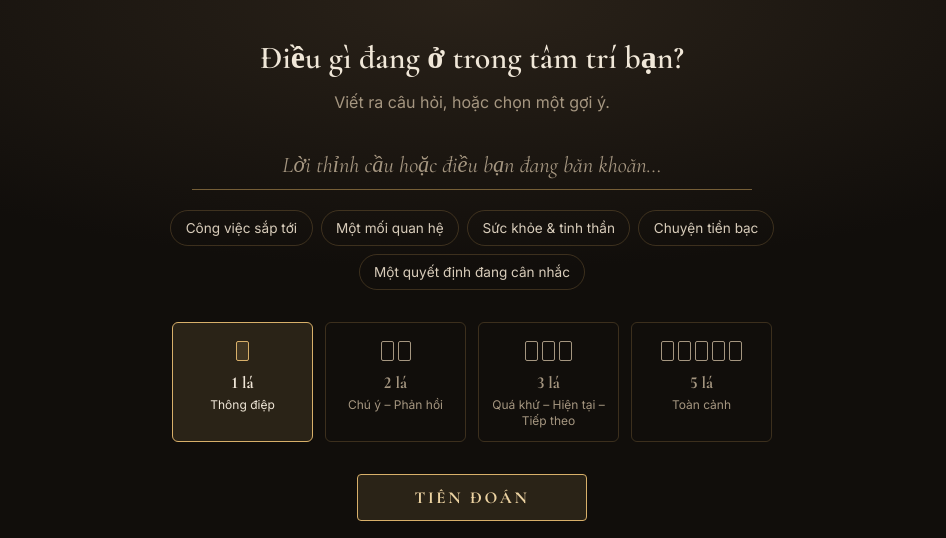
RandomPullTab › bấm gợi ý thì điền đúng chữ đó vào ô câu hỏi
Click the button "Một mối quan hệ". click: {"x": 390, "y": 228}
box: [320,210,459,246]
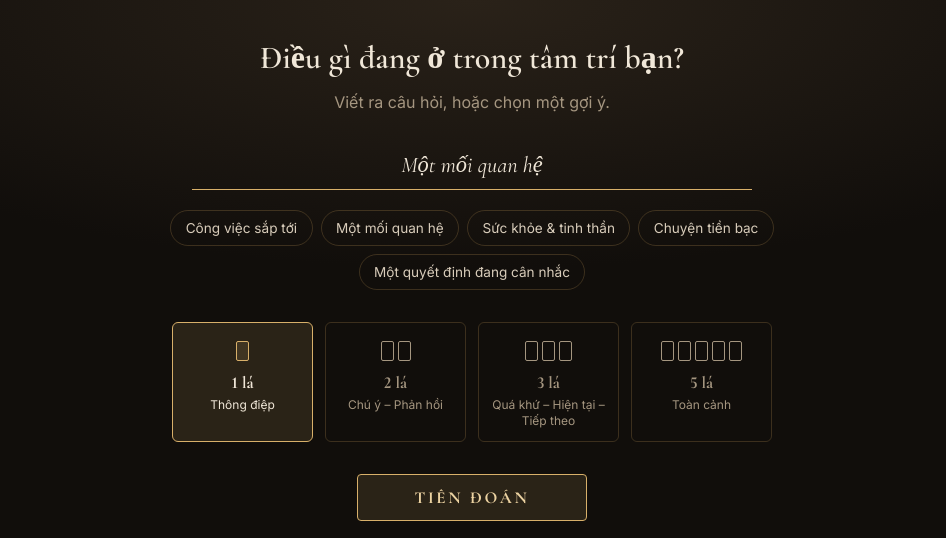
Expected: the text box named "Câu hỏi của bạn" holds "Một mối quan hệ", [192,139,752,190]
